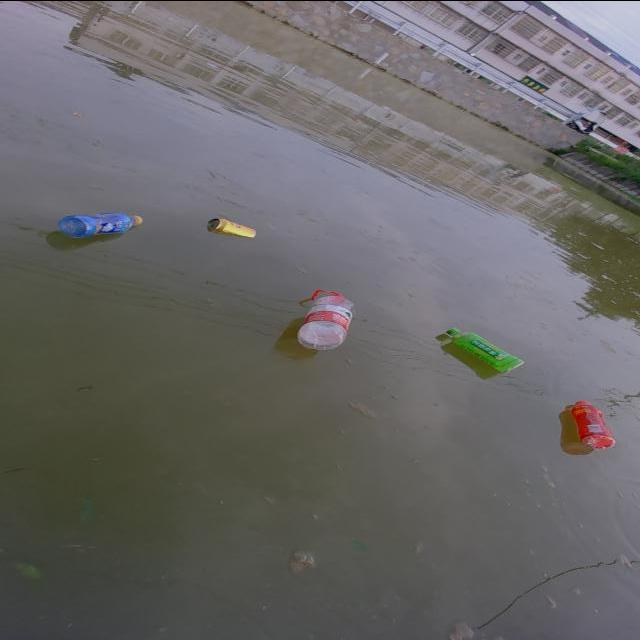bottle: (542, 385, 628, 468), (274, 280, 362, 354), (441, 319, 528, 381), (52, 202, 148, 246)
